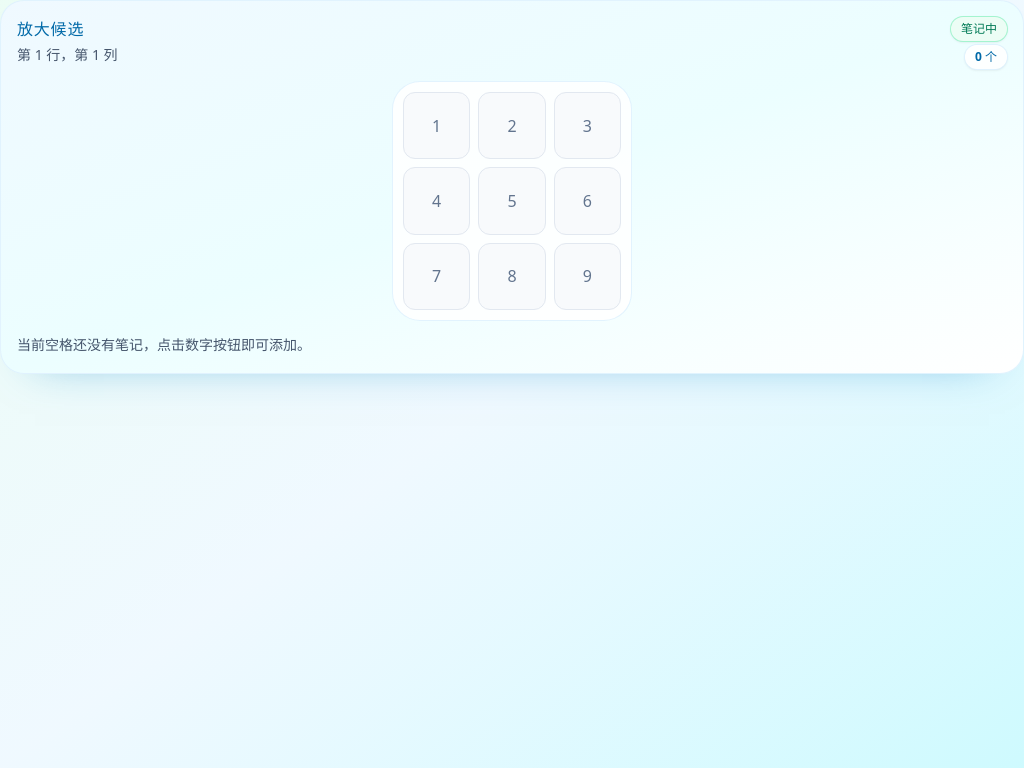
Test: SelectedNotePreview › 点击放大候选按钮时可切换笔记
Click the button named "切换候选 5" at (512, 201), box [478,167,546,235]
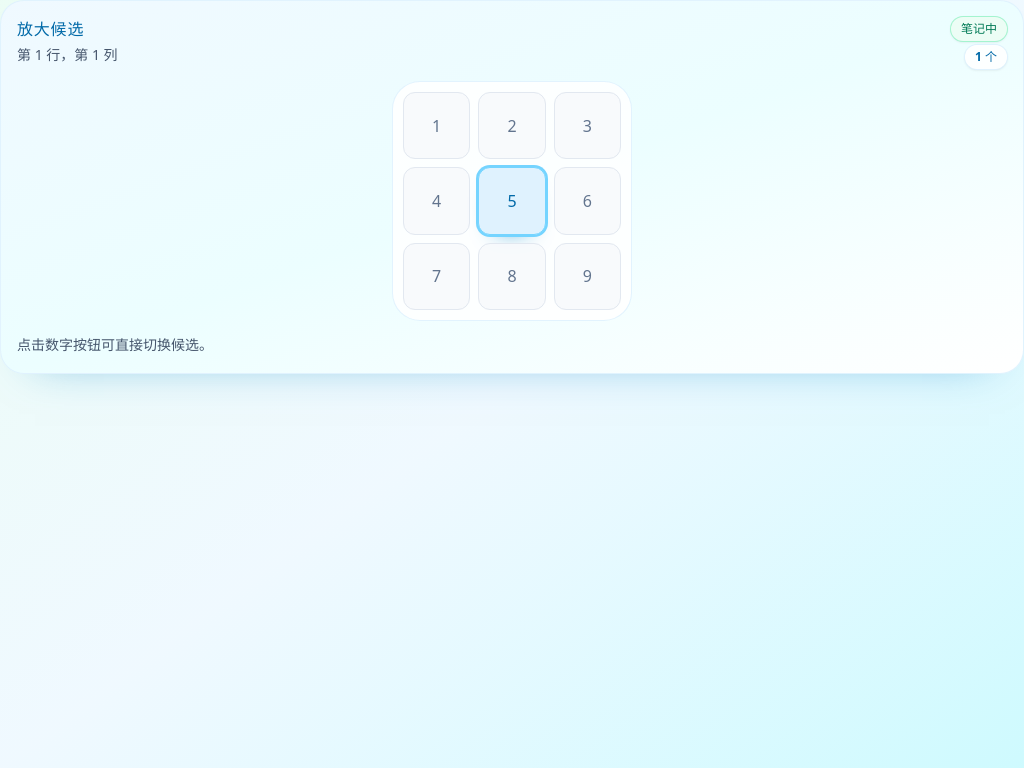
expect the text "1 个" is shown: met, box [965,45,1007,69]
expect the text "点击数字按钮可直接切换候选。" is shown: met, box [17,335,213,354]
